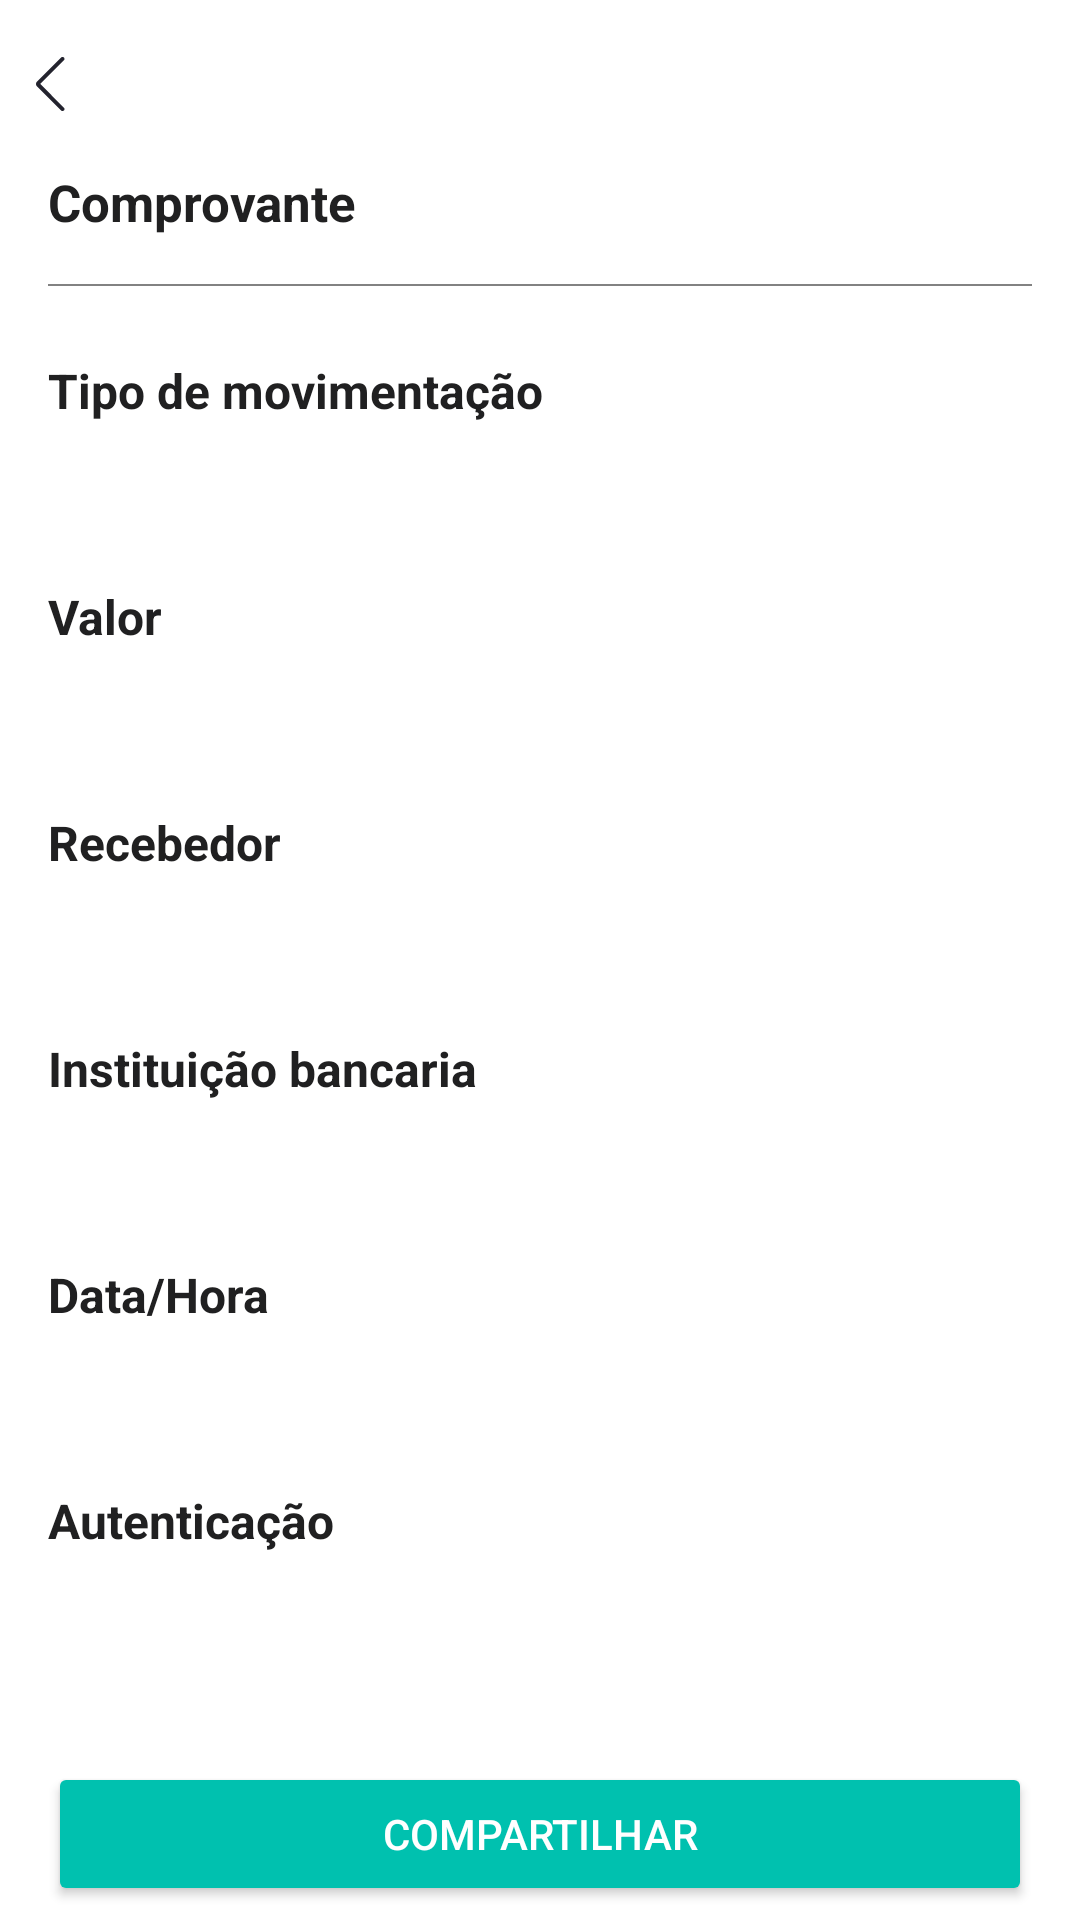

Icon click points for this 1080 × 1920 phone screenshot, format [x,y]:
back: [50,84]
